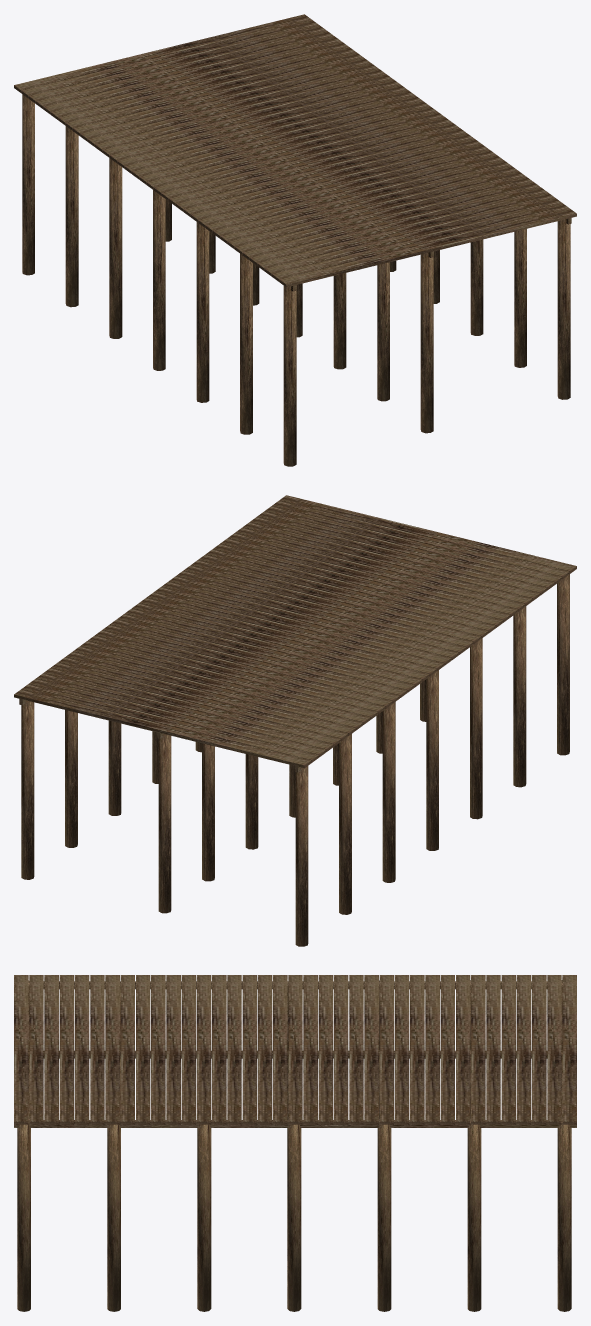
File: palanque.fbx
The picture shows the model from 3 angles, top to bottom: view 1: azimuth 30°, elevation 25°; view 2: azimuth 150°, elevation 25°; view 3: azimuth 270°, elevation 25°; orthographic projection. The views are drawn at different scales.
Parts seen in each view (by area): view 1: Cube; view 2: Cube; view 3: Cube.
Part boxes in pixels (x1=…): Cube: x1=14, y1=14, x2=576, y2=466; Cube: x1=14, y1=495, x2=576, y2=946; Cube: x1=14, y1=975, x2=576, y2=1311.
Bounding box in the file's own units: 501 × 305 × 812.
Materials: 1 (1 with a texture image).
